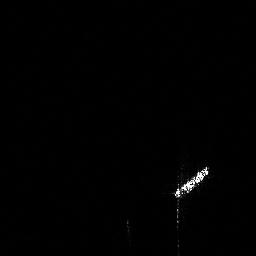ship: (171, 162, 212, 204)
